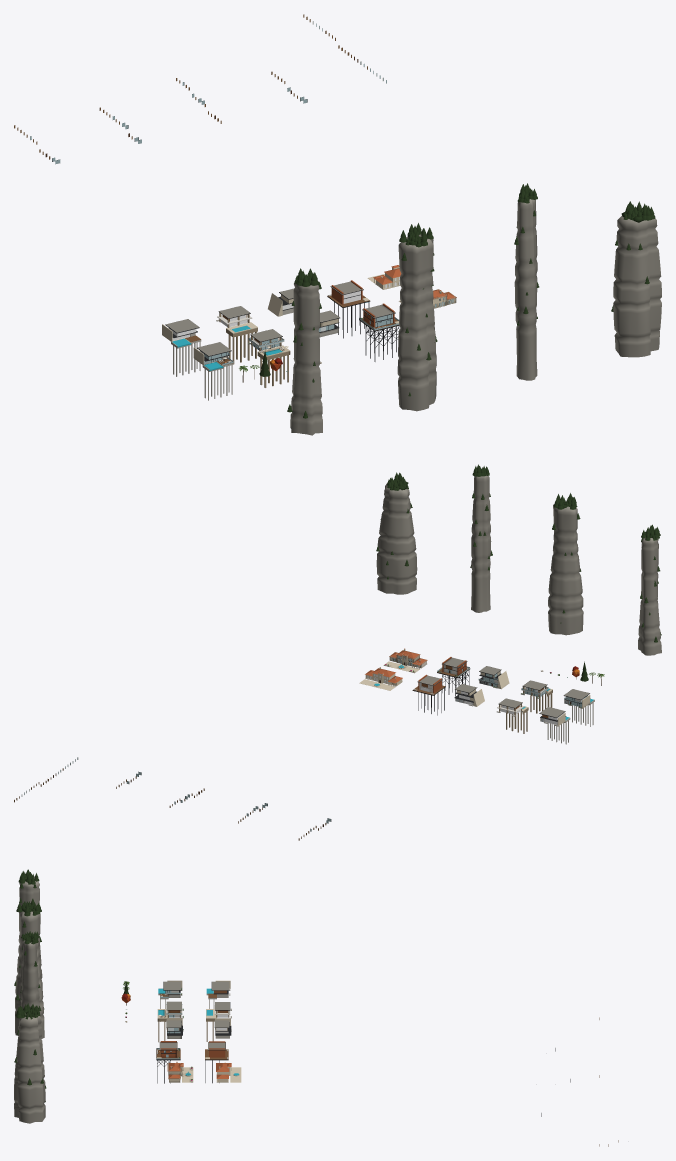
The model's file is hill_homes.glb.
3 views of the same model, one above another, from view 1: azimuth 30°, elevation 25°; view 2: azimuth 150°, elevation 25°; view 3: azimuth 270°, elevation 25° (orthographic). The views are drawn at different scales.
Parts seen in each view (by area): view 1: karst4, karst2, karst1, karst3, hm1_lo, hm1, hm2_lo, hm4, hm2, hm4_lo; view 2: karst2, karst4, karst3, karst1, hm1_lo, hm4, hm2_lo, hm4_lo, hm1, hm5_lo, hm5, hm2; view 3: karst4, karst2, karst3, karst1, hm4, hm5, hm4_lo, hm5_lo, hm2, hm2_lo, hm1_lo.
Boxes of the visible parts, x1=… form: karst4: x1=611, y1=201, x2=661, y2=357; karst2: x1=397, y1=223, x2=437, y2=411; karst1: x1=287, y1=268, x2=322, y2=435; karst3: x1=514, y1=183, x2=539, y2=380; hm1_lo: x1=162, y1=319, x2=201, y2=376; hm1: x1=193, y1=342, x2=233, y2=400; hm2_lo: x1=216, y1=306, x2=257, y2=363; hm4: x1=359, y1=303, x2=399, y2=361; hm2: x1=248, y1=329, x2=290, y2=387; hm4_lo: x1=327, y1=280, x2=370, y2=338; karst2: x1=548, y1=493, x2=583, y2=635; karst4: x1=376, y1=472, x2=417, y2=594; karst3: x1=470, y1=464, x2=492, y2=612; karst1: x1=638, y1=524, x2=661, y2=655; hm1_lo: x1=539, y1=707, x2=570, y2=744; hm4: x1=437, y1=657, x2=470, y2=696; hm2_lo: x1=496, y1=698, x2=528, y2=733; hm4_lo: x1=412, y1=674, x2=445, y2=715; hm1: x1=563, y1=689, x2=594, y2=726; hm5_lo: x1=359, y1=667, x2=402, y2=690; hm5: x1=383, y1=648, x2=427, y2=673; hm2: x1=521, y1=680, x2=552, y2=713; karst4: x1=14, y1=1003, x2=46, y2=1123; karst2: x1=14, y1=898, x2=44, y2=1038; karst3: x1=20, y1=931, x2=41, y2=1011; karst1: x1=18, y1=869, x2=42, y2=986; hm4: x1=156, y1=1041, x2=180, y2=1083; hm5: x1=167, y1=1062, x2=193, y2=1082; hm4_lo: x1=205, y1=1041, x2=228, y2=1083; hm5_lo: x1=216, y1=1062, x2=241, y2=1082; hm2: x1=157, y1=1001, x2=183, y2=1042; hm2_lo: x1=206, y1=1002, x2=231, y2=1041; hm1_lo: x1=206, y1=980, x2=230, y2=1008.
Size of the model in its own units: 312 by 153 by 537.
